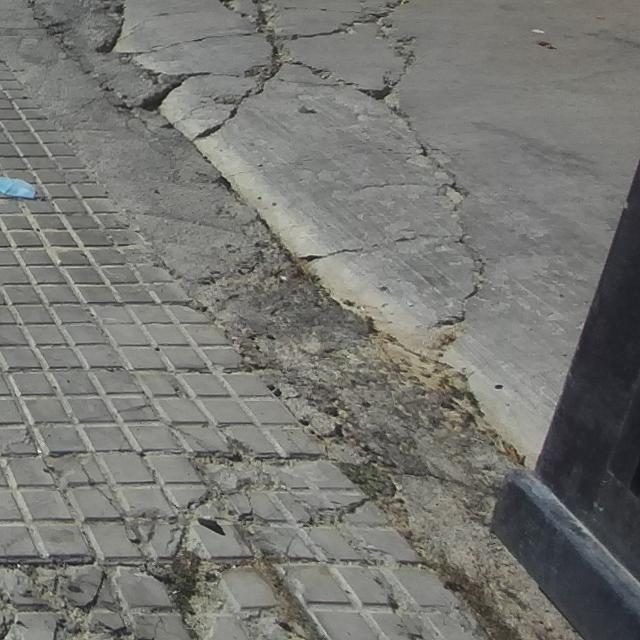calcada_quebrada: (65, 456, 145, 555), (75, 396, 159, 426)
